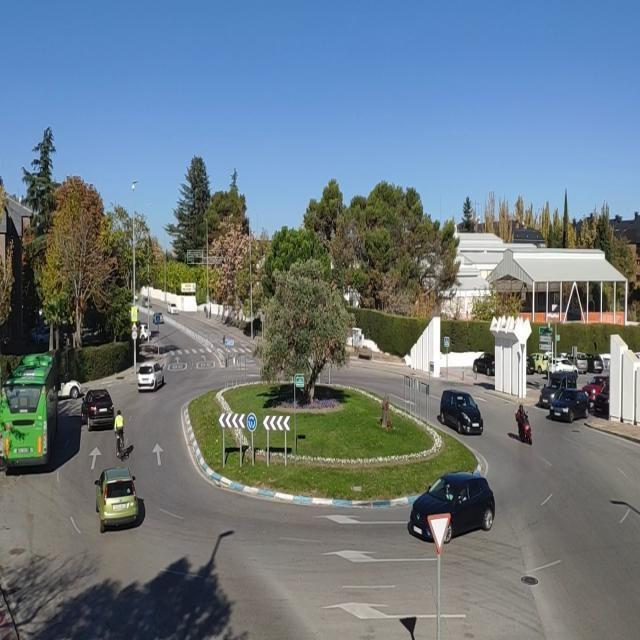Bus: (0, 351, 61, 468)
Car: (409, 472, 493, 542), (94, 465, 141, 534), (440, 390, 484, 434), (548, 388, 590, 422), (82, 390, 116, 431), (539, 373, 577, 409), (137, 360, 165, 392), (582, 374, 609, 403), (472, 352, 496, 376), (547, 358, 578, 376), (564, 352, 590, 373), (578, 353, 604, 373), (527, 353, 550, 374), (58, 380, 82, 400), (595, 383, 610, 413), (31, 326, 50, 344), (136, 322, 150, 339), (526, 356, 535, 374), (153, 312, 164, 324), (168, 302, 178, 314), (144, 297, 152, 307)
Cycle: (516, 416, 534, 444), (113, 428, 125, 461)
